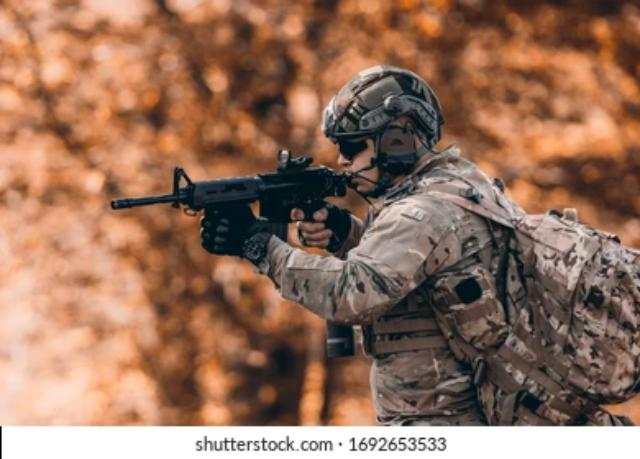other: (312, 73, 526, 416)
